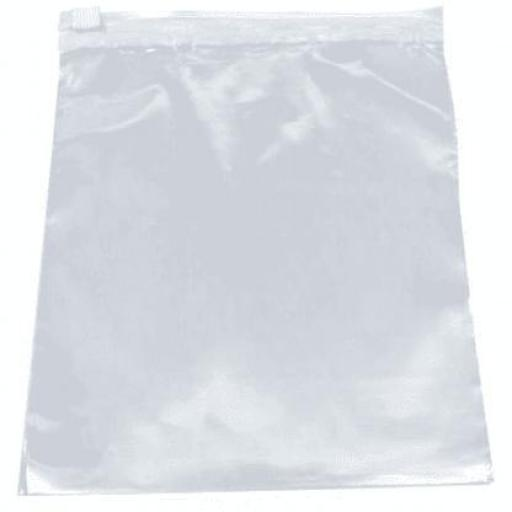plastic bag: (8, 1, 500, 497)
